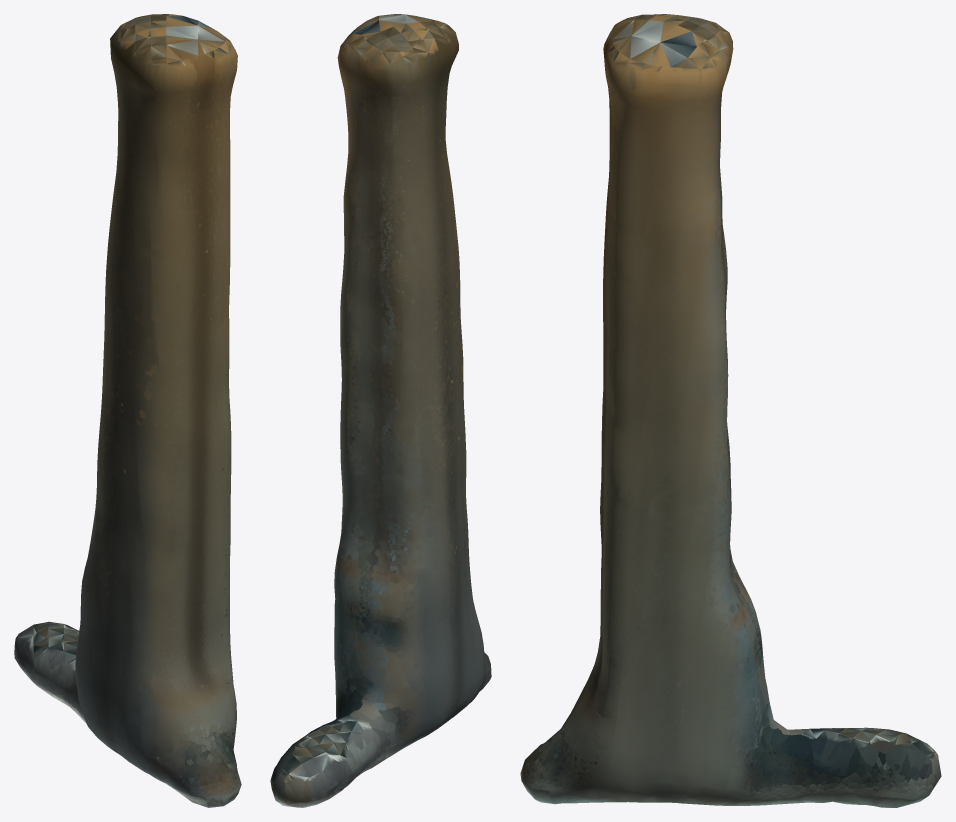
File: arm_new.fbx
3 renders of one model, left to right at view 1: azimuth 30°, elevation 25°; view 2: azimuth 150°, elevation 25°; view 3: azimuth 270°, elevation 25°, orthographic. The views are drawn at different scales.
Visible parts, largest first — view 1: arm_new; view 2: arm_new; view 3: arm_new.
Boxes of the visible parts, x1=… form: arm_new: x1=14, y1=14, x2=241, y2=807; arm_new: x1=270, y1=14, x2=491, y2=807; arm_new: x1=520, y1=14, x2=941, y2=807.
Size of the model in its own units: 5.44 by 32.06 by 15.62.
1 material, 1 textured.
